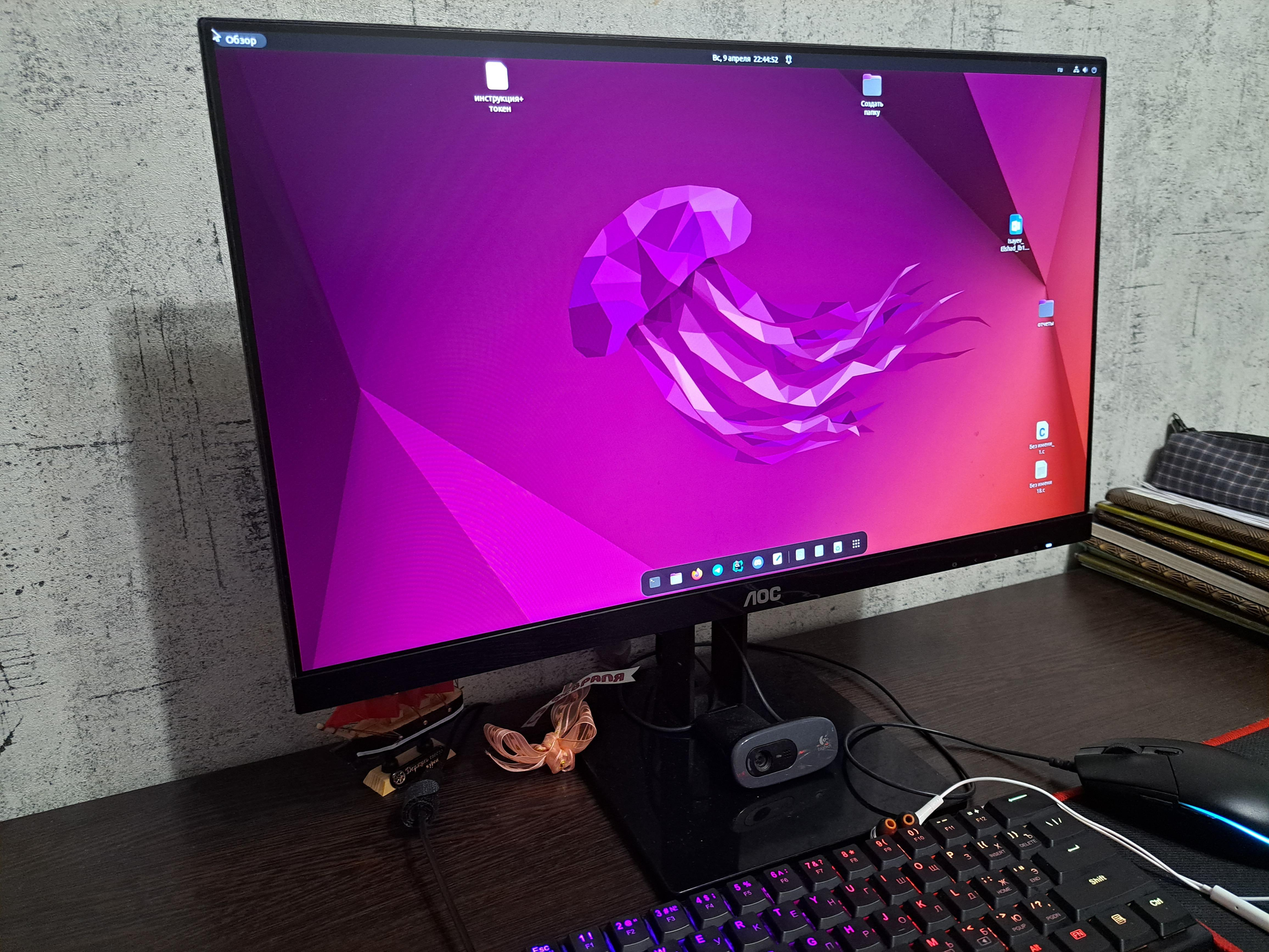monitor: (193, 7, 1110, 721)
